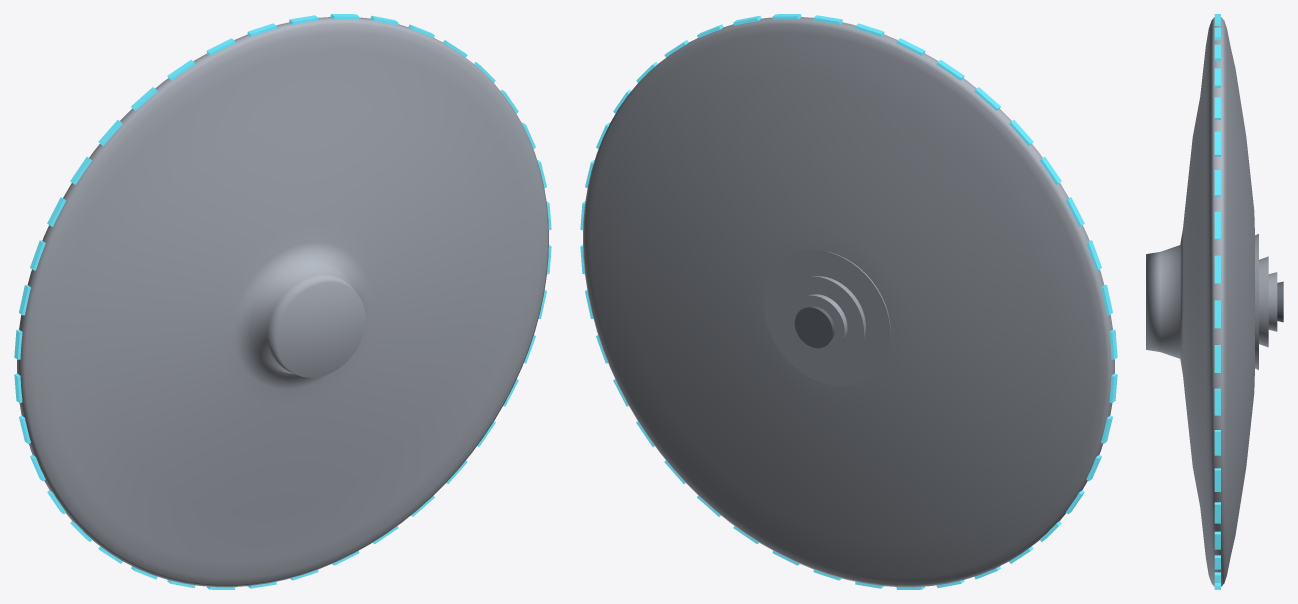
The model's file is ufo.glb.
3 renders of one model, left to right at view 1: azimuth 30°, elevation 25°; view 2: azimuth 150°, elevation 25°; view 3: azimuth 270°, elevation 25°, orthographic. The views are drawn at different scales.
Parts seen in each view (by area): view 1: object 1; view 2: object 1, object 44, object 45, object 47, object 49; view 3: object 1, object 45, object 47, object 44, object 49, RimLamp_2, RimLamp_3, RimLamp_4.
Part boxes in pixels (left/top/right/bottom): object 1: left=17, top=17, right=548, bottom=587; object 1: left=583, top=17, right=1114, bottom=587; object 44: left=763, top=250, right=890, bottom=386; object 45: left=779, top=276, right=865, bottom=367; object 47: left=789, top=294, right=847, bottom=354; object 49: left=794, top=306, right=834, bottom=348; object 1: left=1146, top=17, right=1254, bottom=586; object 45: left=1259, top=256, right=1268, bottom=347; object 47: left=1268, top=272, right=1277, bottom=331; object 44: left=1255, top=234, right=1258, bottom=369; object 49: left=1277, top=281, right=1283, bottom=322; RimLamp_2: left=1214, top=300, right=1220, bottom=328; RimLamp_3: left=1214, top=255, right=1220, bottom=283; RimLamp_4: left=1214, top=211, right=1220, bottom=239.
Size of the model in its own units: 2.02 by 2.02 by 0.484.
